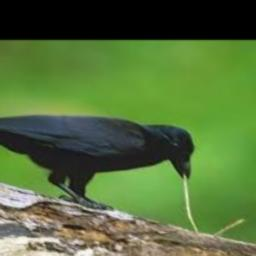Crow: (0, 114, 195, 211)
